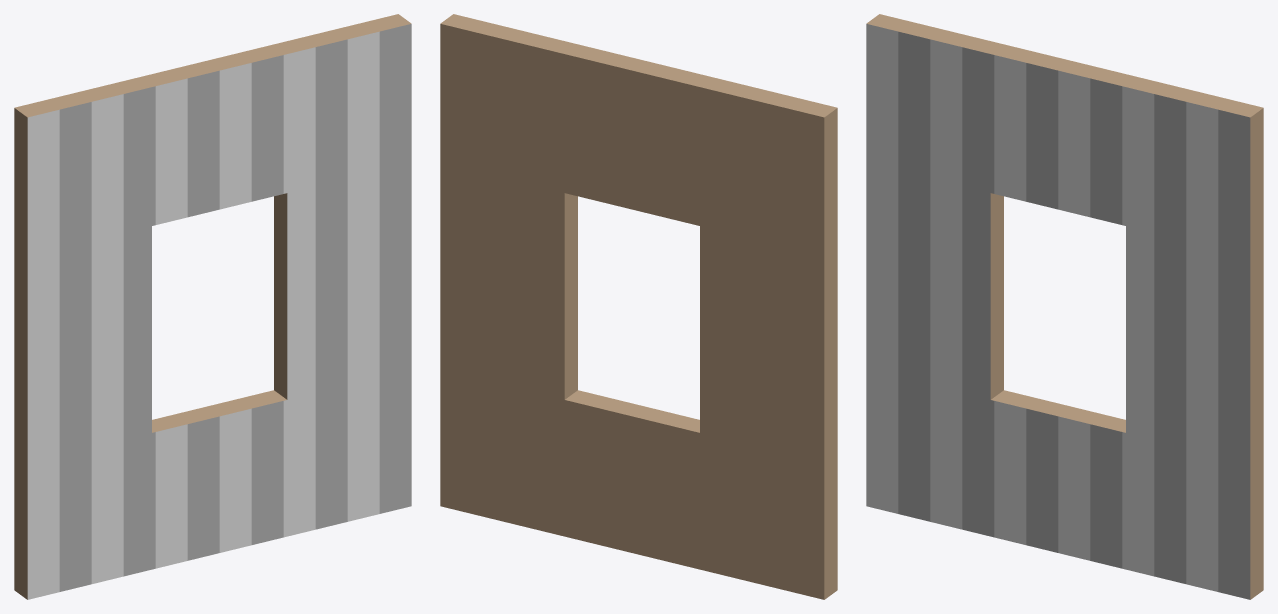
Rendered from Wall2_C8_03.fbx.
3 renders of one model, left to right at view 1: azimuth 30°, elevation 25°; view 2: azimuth 150°, elevation 25°; view 3: azimuth 330°, elevation 25°, orthographic.
Visible parts, largest first — view 1: Wall2_C8_03; view 2: Wall2_C8_03; view 3: Wall2_C8_03.
Boxes of the visible parts, box(x1,y1,x2,y2) form: Wall2_C8_03: box(14, 14, 411, 599); Wall2_C8_03: box(440, 14, 837, 599); Wall2_C8_03: box(866, 14, 1263, 599).
Size of the model in its own units: 250 by 300 by 15.
